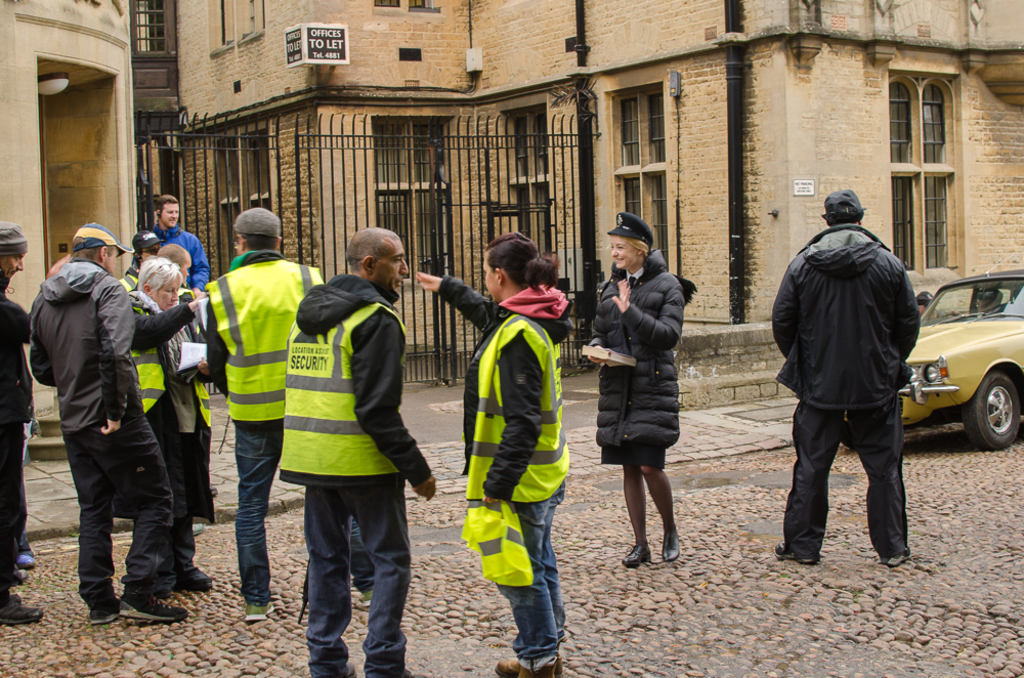Car: (908, 266, 1018, 454)
